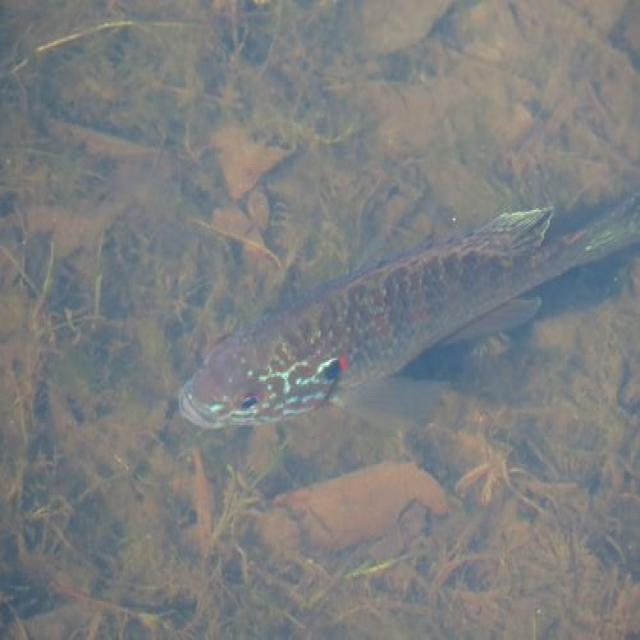Gunes Levregi: (171, 201, 559, 443)
